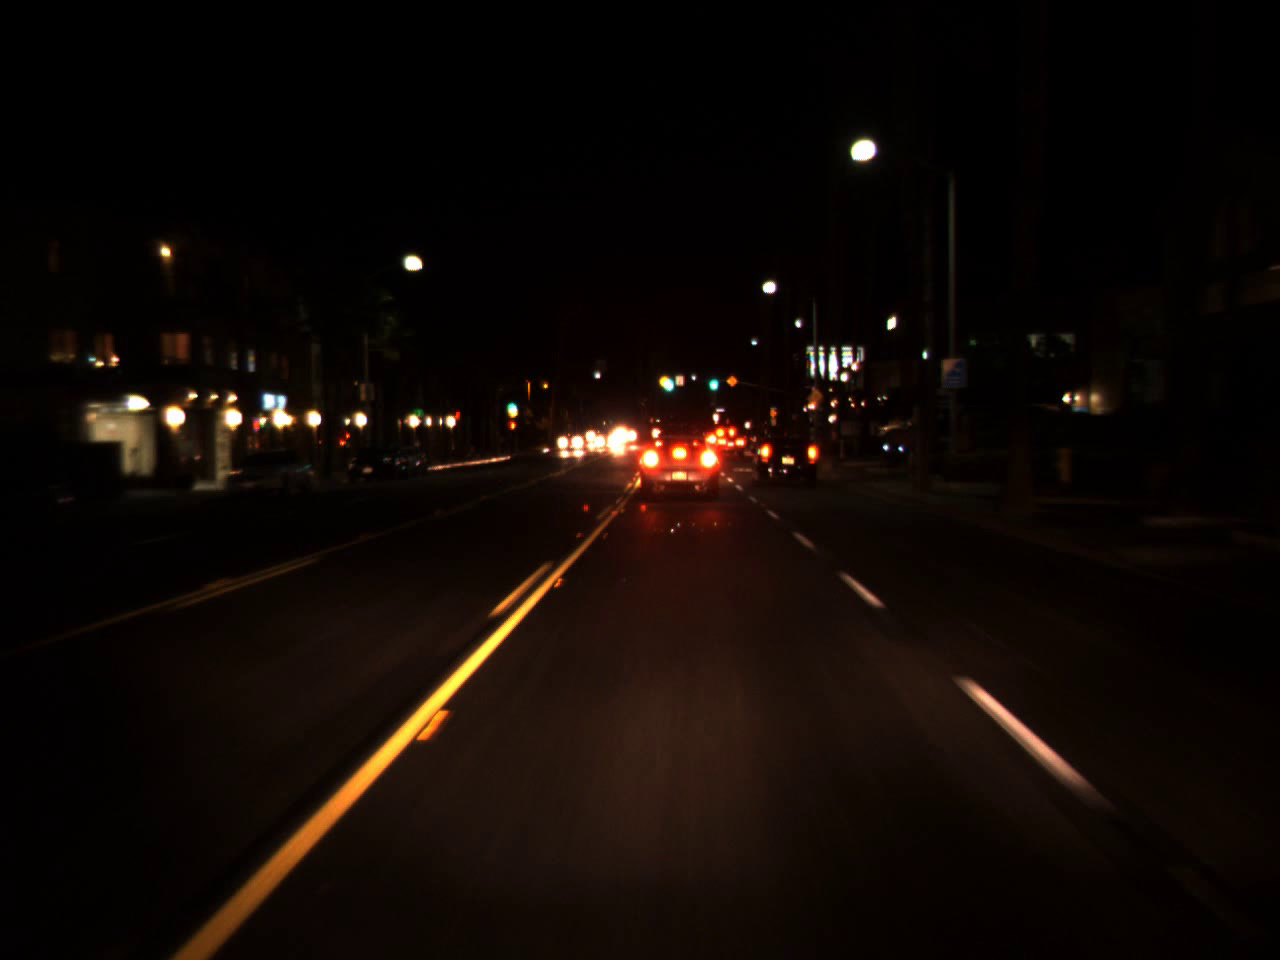go: (659, 365, 675, 395), (706, 369, 720, 393), (507, 398, 517, 410)
